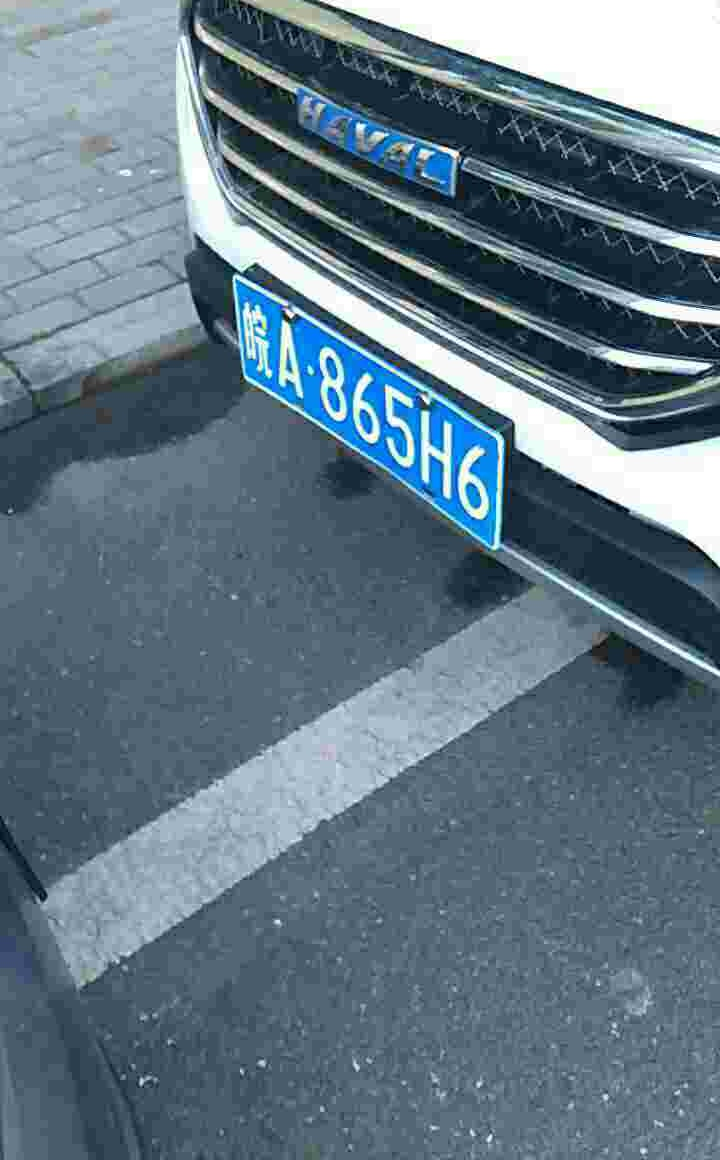car: (236, 299, 506, 537)
